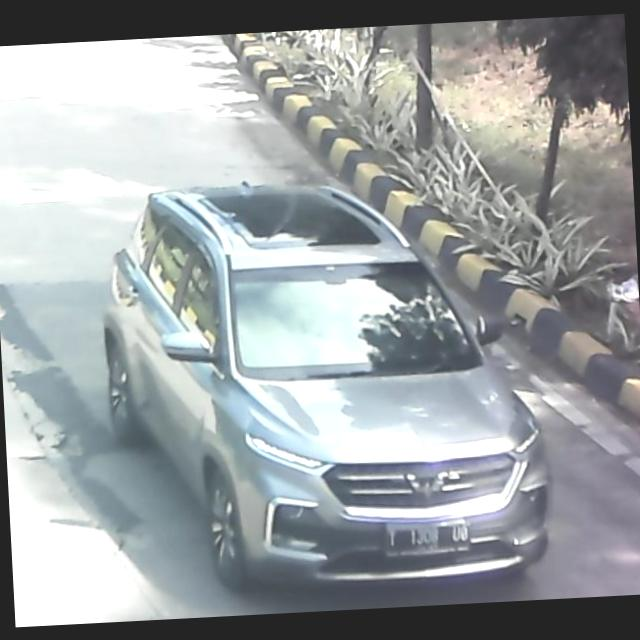plate: (386, 519, 473, 553)
